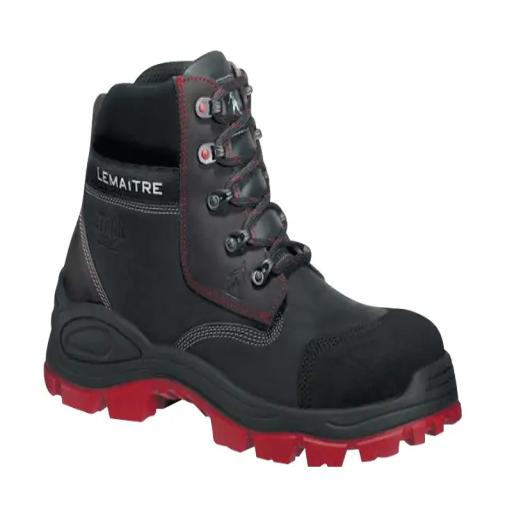safety_boots: (41, 70, 471, 480)
